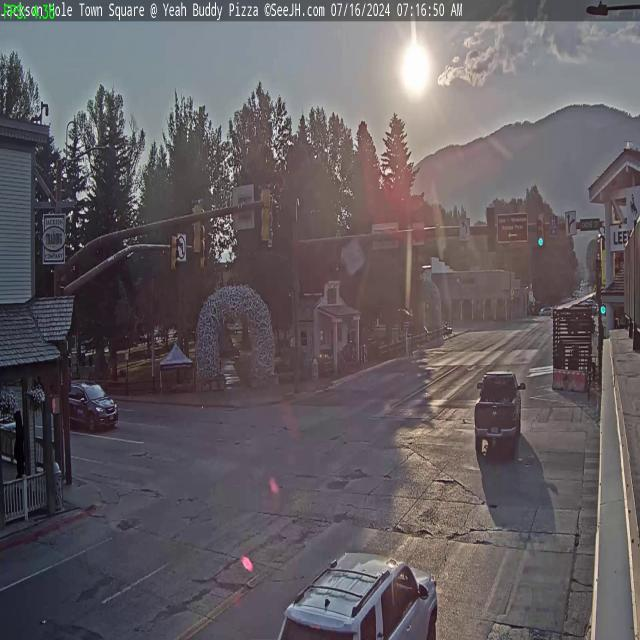pickup: (474, 364, 524, 457)
suv: (272, 548, 438, 640), (64, 380, 118, 434)
traffic light: (190, 198, 204, 255), (260, 184, 272, 244), (487, 207, 496, 252), (170, 234, 179, 272), (536, 215, 545, 247)
